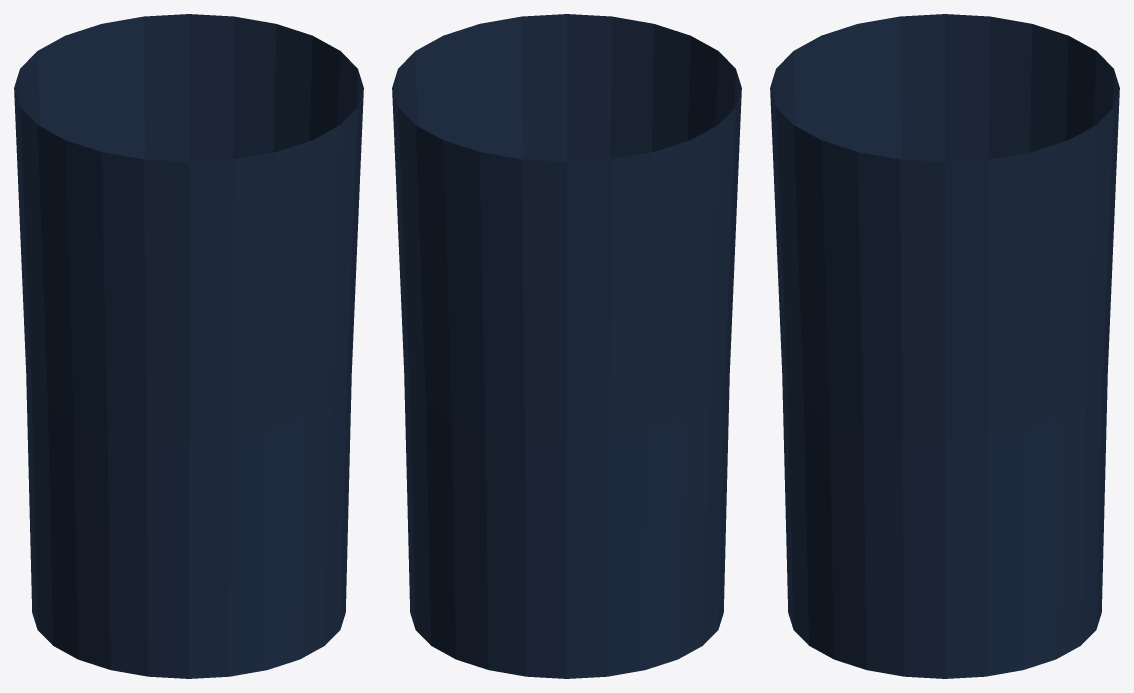
File: JeansLower_L.obj
The picture shows the model from 3 angles, left to right: view 1: azimuth 30°, elevation 25°; view 2: azimuth 150°, elevation 25°; view 3: azimuth 270°, elevation 25°; orthographic projection.
Parts seen in each view (by area): view 1: JeansLower_L; view 2: JeansLower_L; view 3: JeansLower_L.
Boxes of the visible parts, <box> form: JeansLower_L: <box>14,14,363,678</box>; JeansLower_L: <box>392,14,741,678</box>; JeansLower_L: <box>770,14,1119,678</box>.
Bounding box in the file's own units: 0.29 × 0.48 × 0.29.
